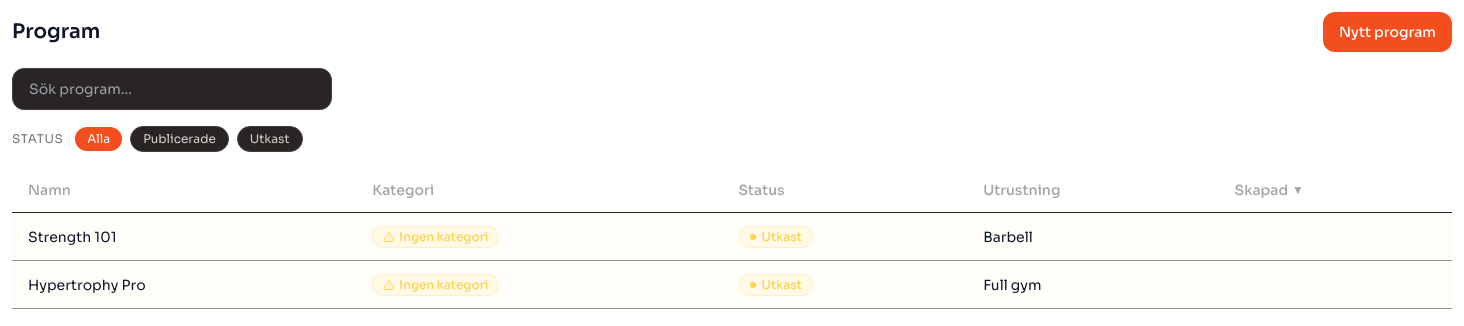
Test: ProgramList › filters programs by search text
Expected: the text "Strength 101" is shown, [12,212,356,260]
Step 1. Type "strength" into the field with placeholder "Sök program..." → (172, 89), box [12,68,332,110]
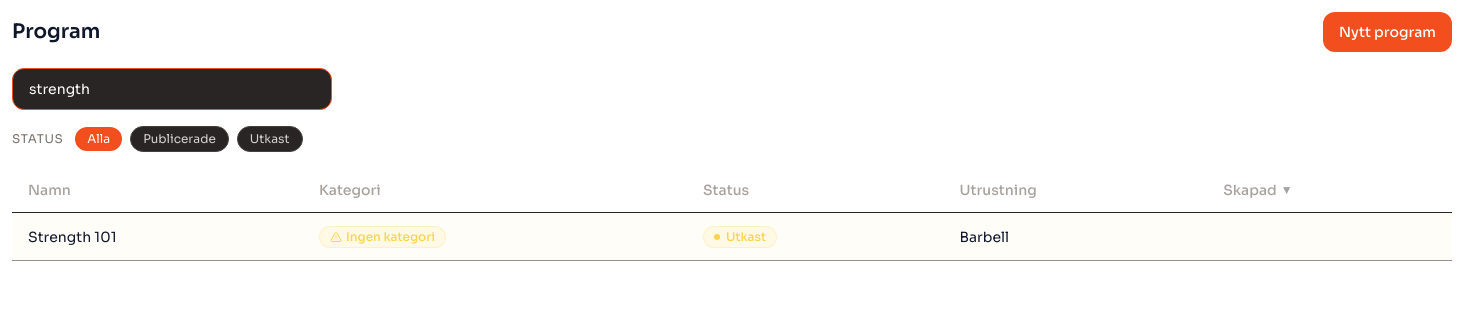
Expected: the text "Strength 101" is shown, [12,212,303,260]
Expected: the text "Hypertrophy Pro" is gone
